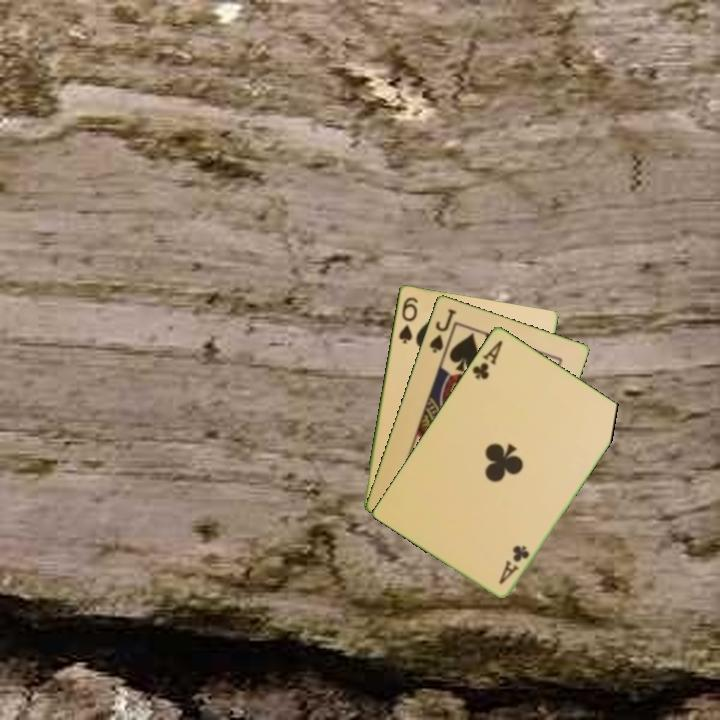6s: (395, 293, 421, 346)
Ac: (468, 336, 506, 382), (495, 541, 532, 587)
Js: (426, 305, 459, 356)
